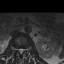CCS_normal: (20, 46, 22, 56)
LFS_severe_stenosis: (24, 46, 26, 52)
LLS_normal: (22, 46, 24, 54)
RFS_stenosis: (15, 46, 17, 52)
RLS_normal: (17, 46, 20, 53)
